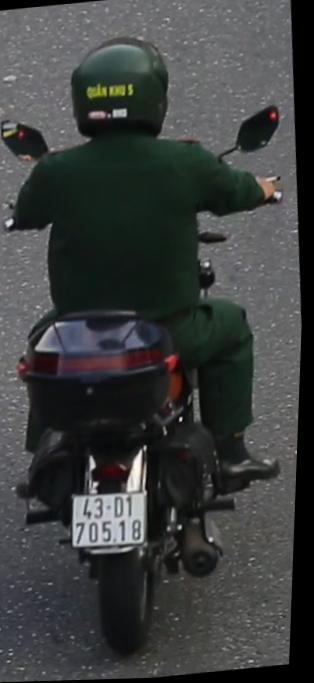LP: (70, 480, 156, 560)
helmet: (54, 19, 189, 169)
